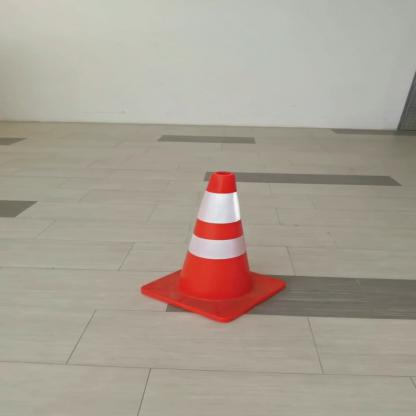cone: (131, 166, 291, 326)
